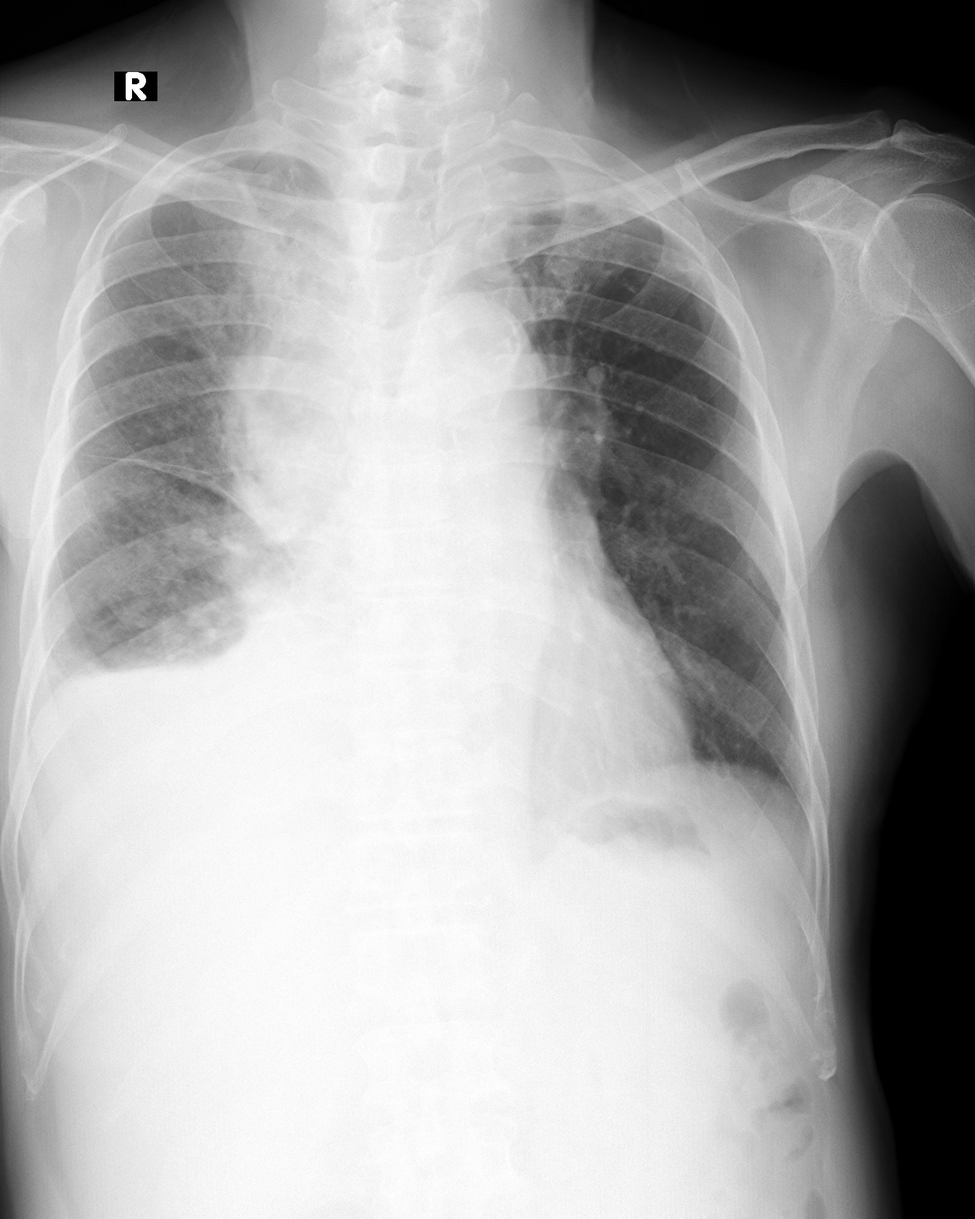Aortic enlargement: (220, 293, 547, 472)
Cardiomegaly: (241, 566, 703, 786)
